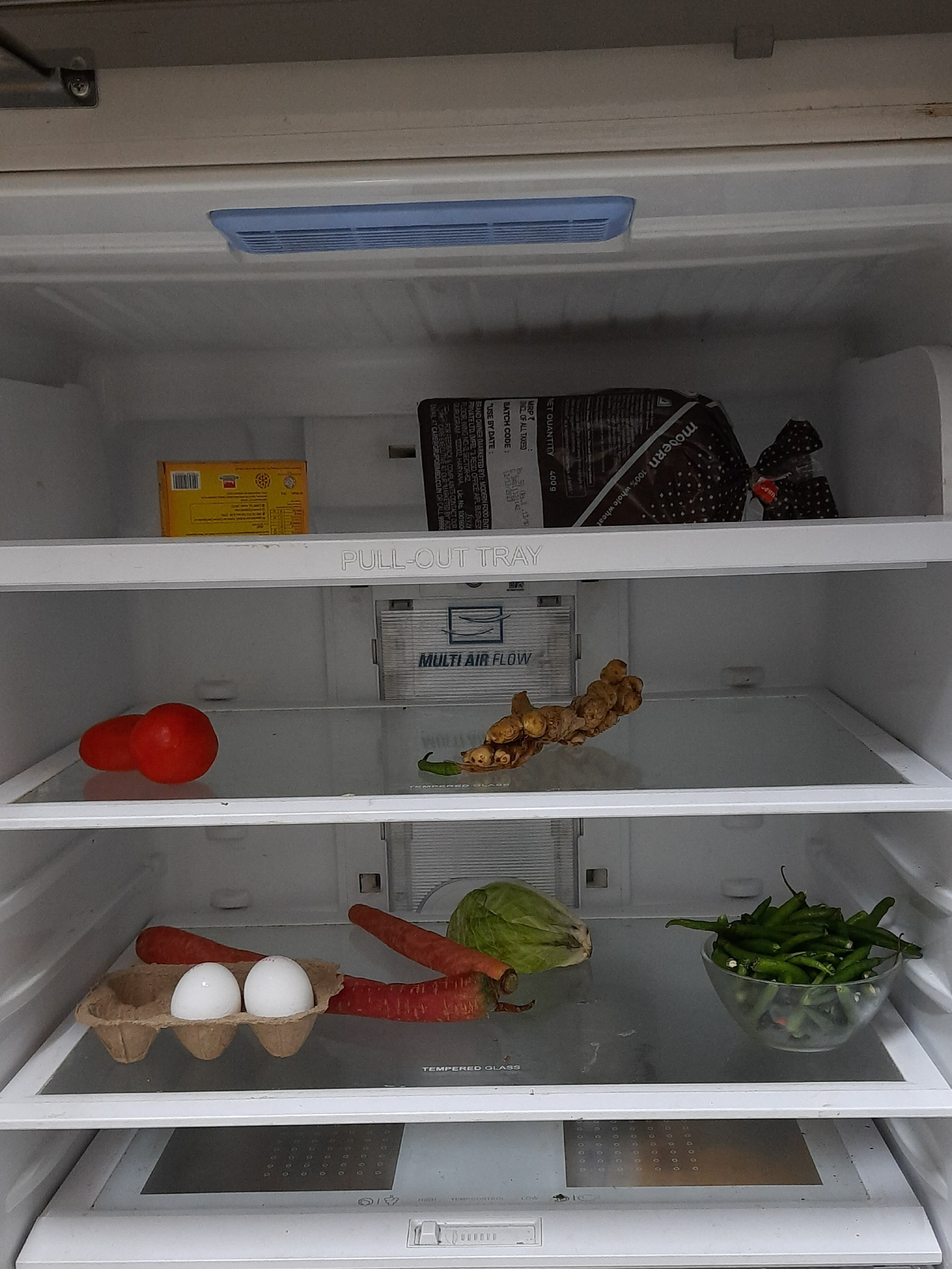bread: (419, 379, 836, 521)
butter: (159, 453, 314, 532)
carrots: (323, 906, 527, 1026), (136, 920, 261, 970)
chillies: (712, 894, 907, 1034), (414, 739, 471, 778)
cucumber: (444, 882, 595, 970)
egg: (166, 956, 324, 1025)
ginger: (459, 659, 655, 777)
tomato: (82, 701, 223, 784)
